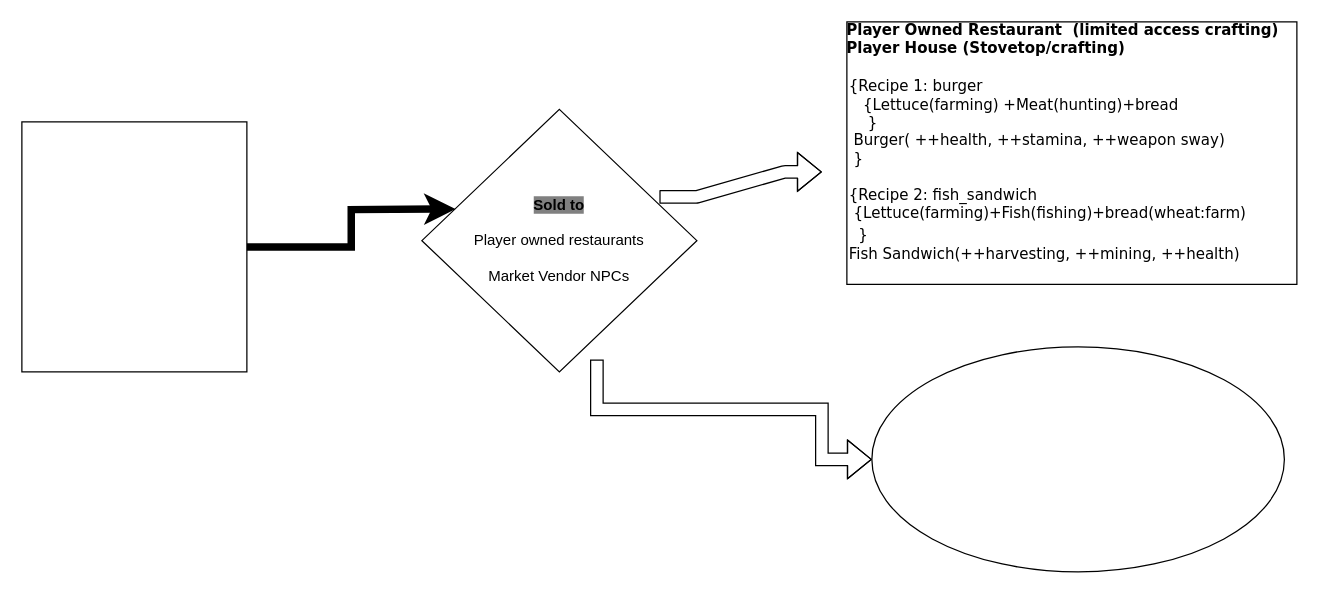
Image size: 1319x594. Some labels were removed from this diagram. Here are the shapes that lost their labels. From the top down, the box of each, then its label:
(21, 121, 247, 372): Consumable Harvestables: Weed Lettuce Tomato Apple Fish Meat Wheat >> Bread
(871, 346, 1284, 572): NPC for $$
